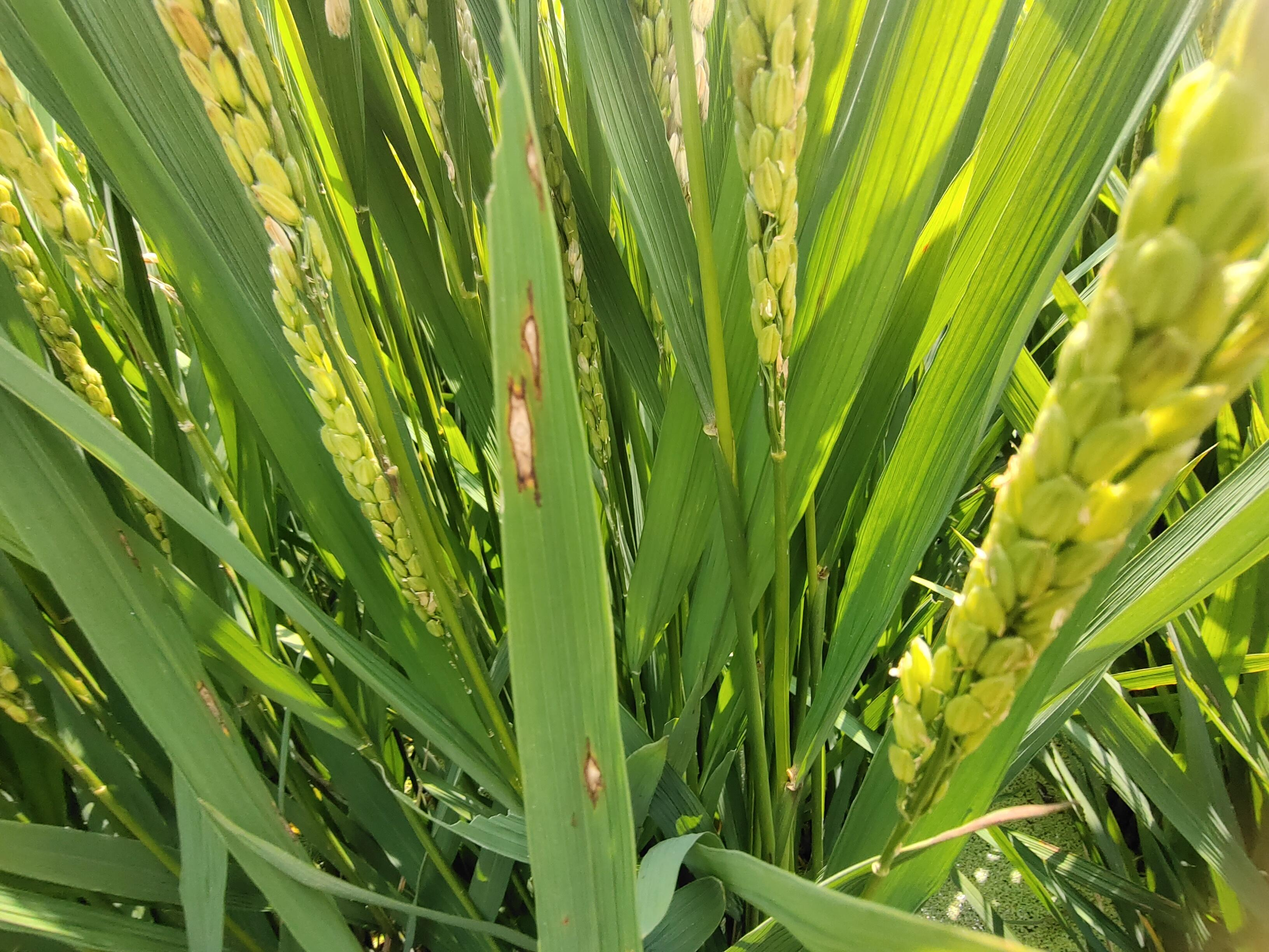LEAF: (488, 3, 644, 952)
LEAF BLAST: (506, 376, 540, 506), (520, 280, 542, 401), (584, 740, 606, 810), (526, 134, 544, 210)
